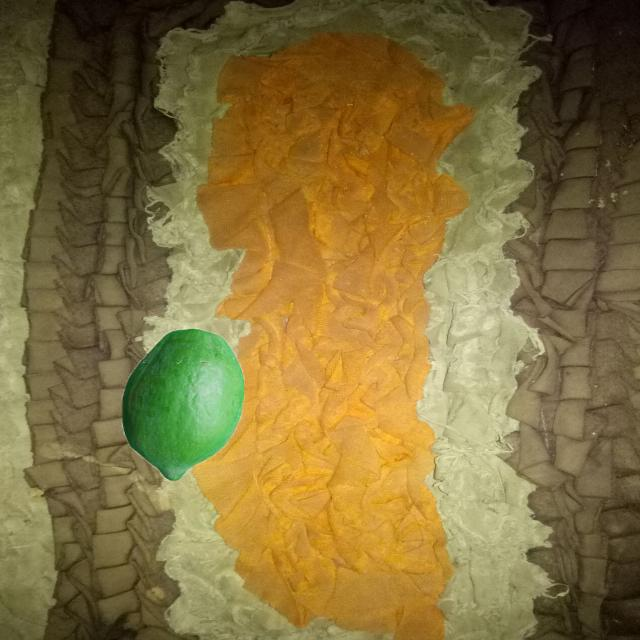Pepaya unrippen: (111, 326, 242, 480)
